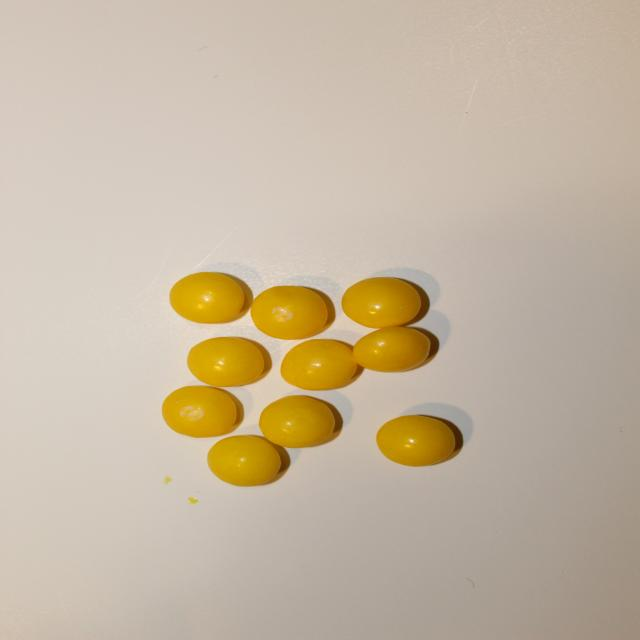smartie: (250, 286, 327, 340), (258, 396, 335, 449), (341, 277, 421, 328), (376, 416, 455, 467), (280, 339, 357, 391), (169, 272, 244, 324), (161, 386, 236, 438), (186, 337, 263, 387), (207, 436, 280, 487), (352, 327, 431, 372)
